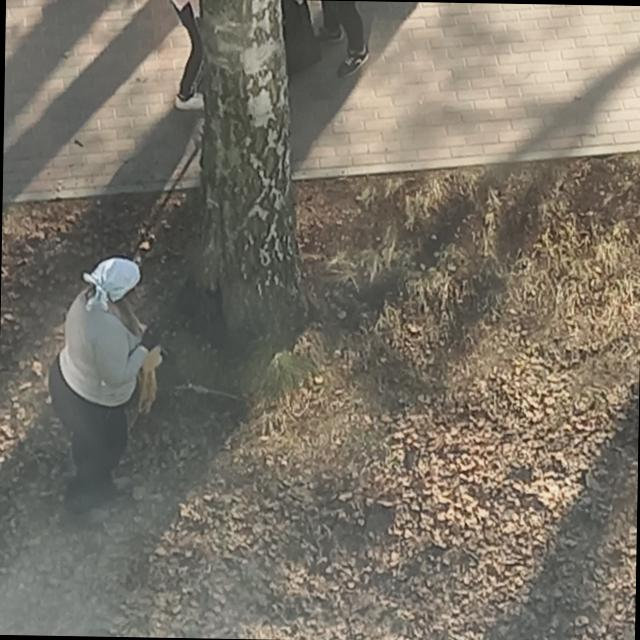person: (46, 255, 163, 516), (165, 0, 205, 109), (314, 0, 368, 78)
